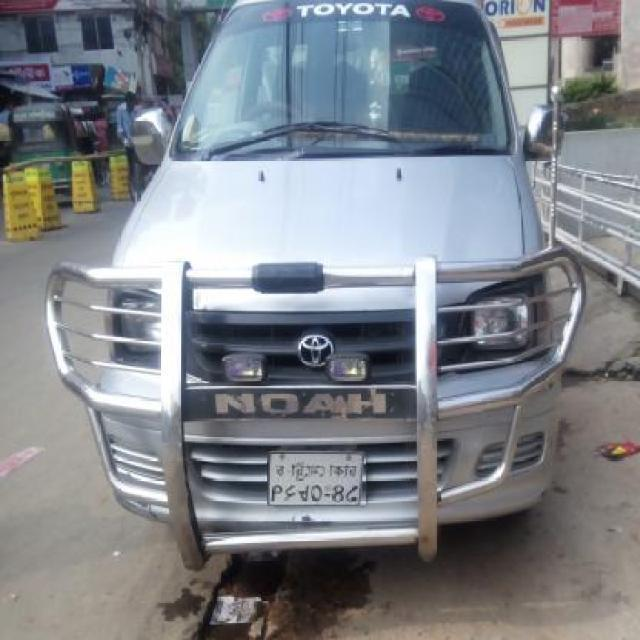numberplate: (267, 449, 366, 506)
